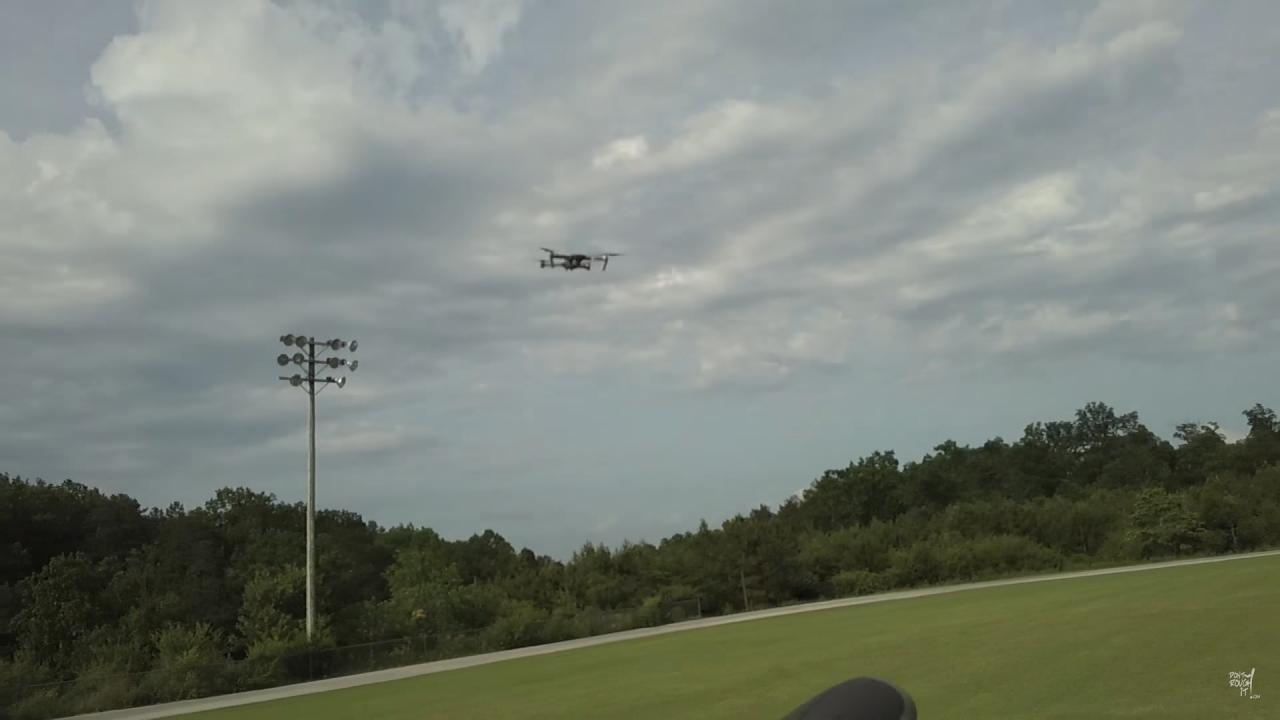Drone: (524, 231, 635, 289)
